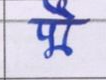ai_matra: (43, 0, 78, 19)
